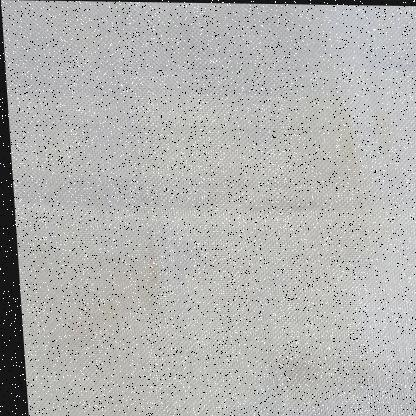spot: (333, 121, 359, 192), (372, 111, 392, 149), (142, 247, 159, 288)
